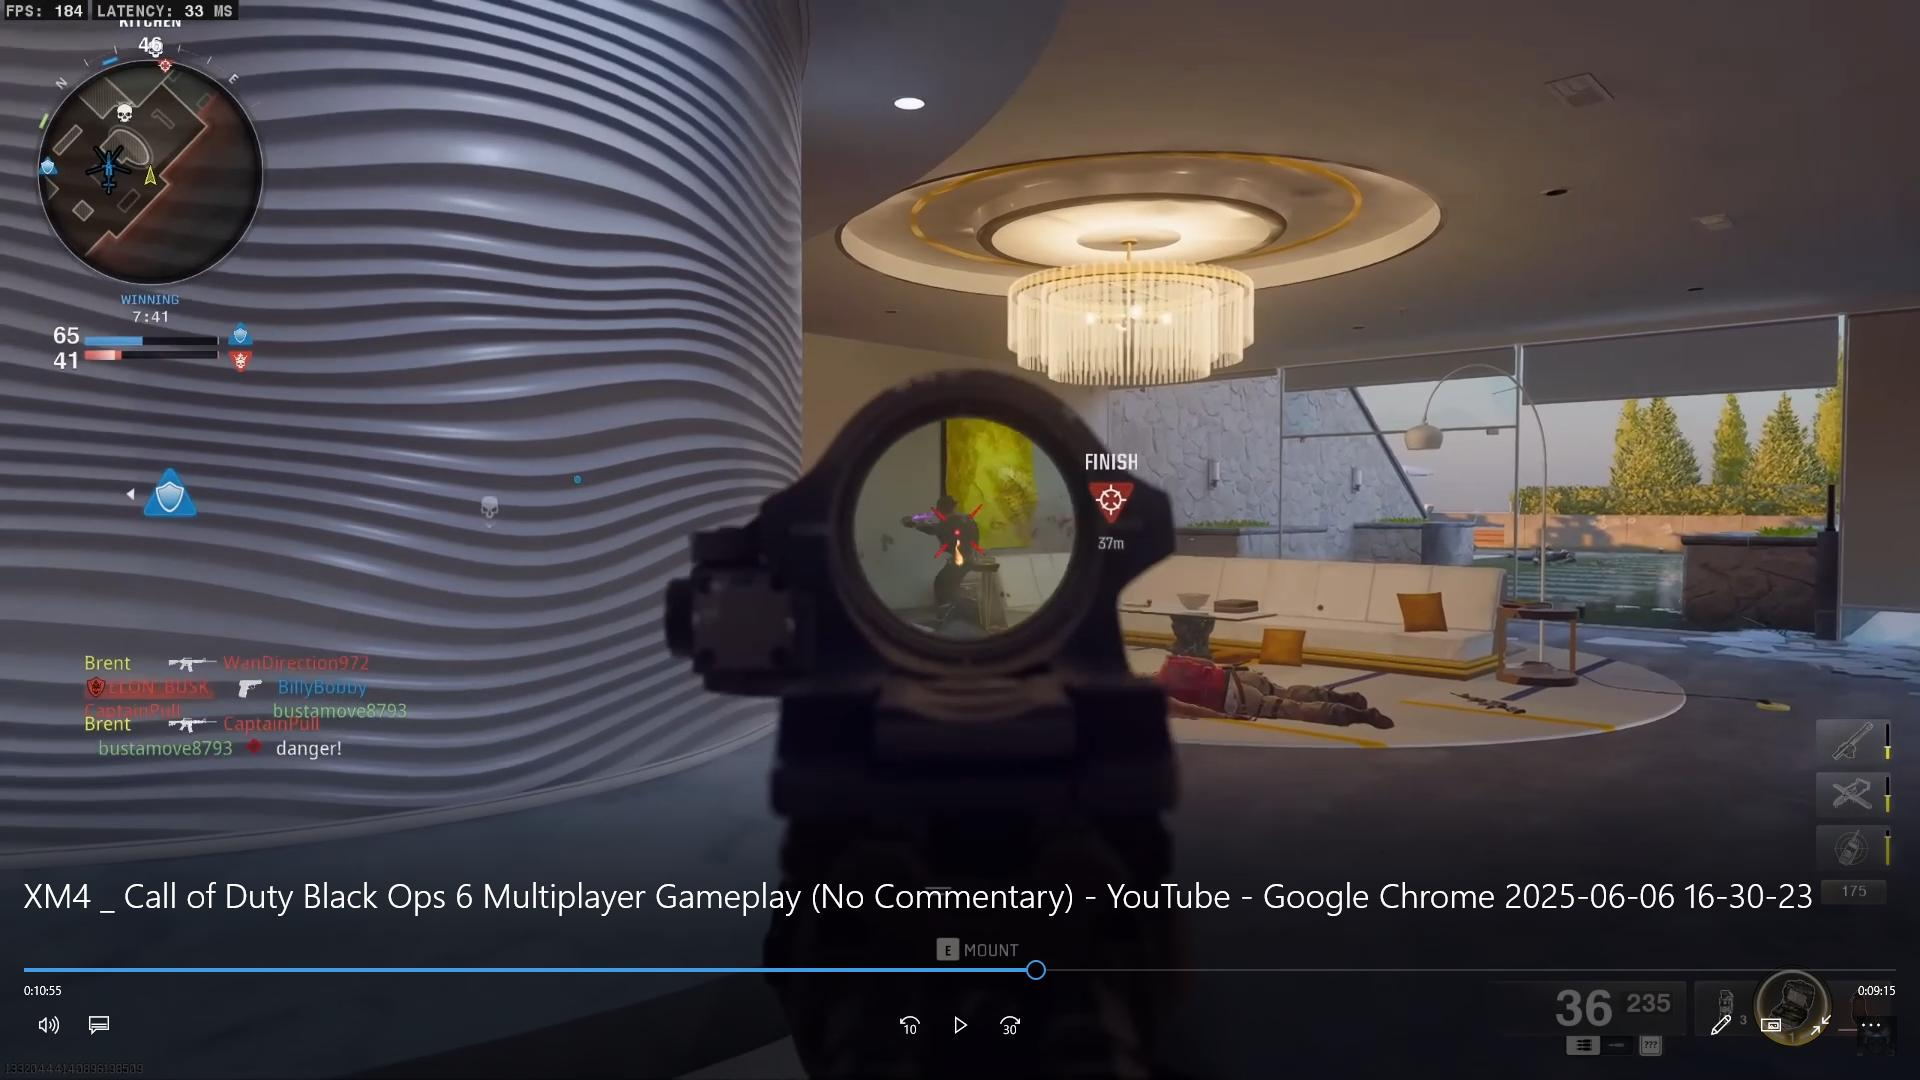Enemy: (910, 492, 1007, 603)
